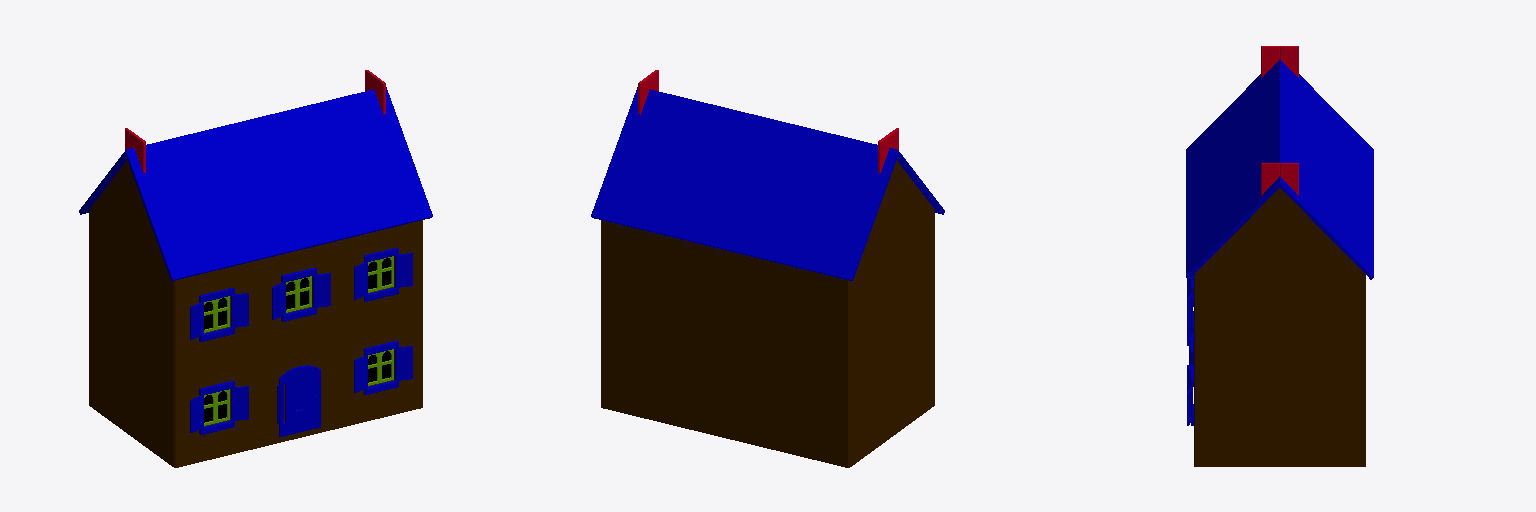
Rendered from building.obj.
The picture shows the model from 3 angles: view 1: azimuth 30°, elevation 25°; view 2: azimuth 150°, elevation 25°; view 3: azimuth 270°, elevation 25°; orthographic projection.
Visible parts, largest first — view 1: Doll's_hou; view 2: Doll's_hou; view 3: Doll's_hou.
Boxes of the visible parts, x1=… form: Doll's_hou: x1=79, y1=70, x2=432, y2=467; Doll's_hou: x1=591, y1=70, x2=944, y2=467; Doll's_hou: x1=1186, y1=46, x2=1373, y2=466.
Size of the model in its own units: 52.3 by 57.71 by 32.7.